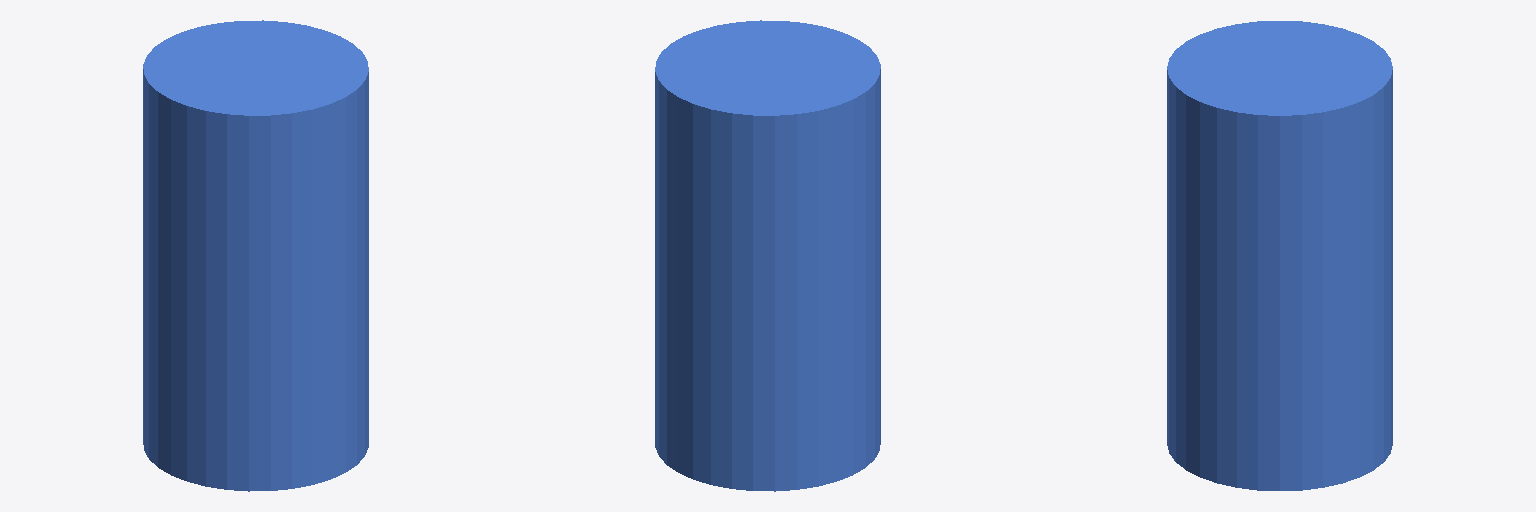
robot.urdf — fr3_link3_robot:
<?xml version="0.0" ?>
<robot name="fr3_link3_robot">
  <link name="base_link">
    <inertial>
      <origin rpy="0 0 0" xyz="0 0 0"/>
       <mass value=".1"/>
       <inertia ixx="1" ixy="0" ixz="0" iyy="1" iyz="0" izz="1"/>
    </inertial>
    
    <visual>
      <origin rpy="0 0 0" xyz="0 0 0.00"/>
      <geometry>
        <cylinder length="0.33" radius="0.09"/>
      </geometry>
      <material name="cornflowerblue">
        <color rgba="0.3921 0.5843 0.9294 0.8"/>
      </material>
    </visual>
  </link>
</robot>

--- Render facts (derived) ---
3 views of the same robot in one strip: view 1: azimuth 30°, elevation 25°; view 2: azimuth 150°, elevation 25°; view 3: azimuth 270°, elevation 25° (orthographic).
Robot: fr3_link3_robot — 1 links, 0 joints (none); root link base_link; default pose: every joint at zero.
Visible links, largest first — view 1: base_link; view 2: base_link; view 3: base_link.
Link boxes in pixels (x1,y1,x2,y2): base_link: (143,20,368,491); base_link: (655,20,880,491); base_link: (1167,21,1392,490).
Size in the robot's own frame: 0.18 by 0.18 by 0.33 metres.
Geometry: primitives only (box / cylinder / sphere), no mesh files.